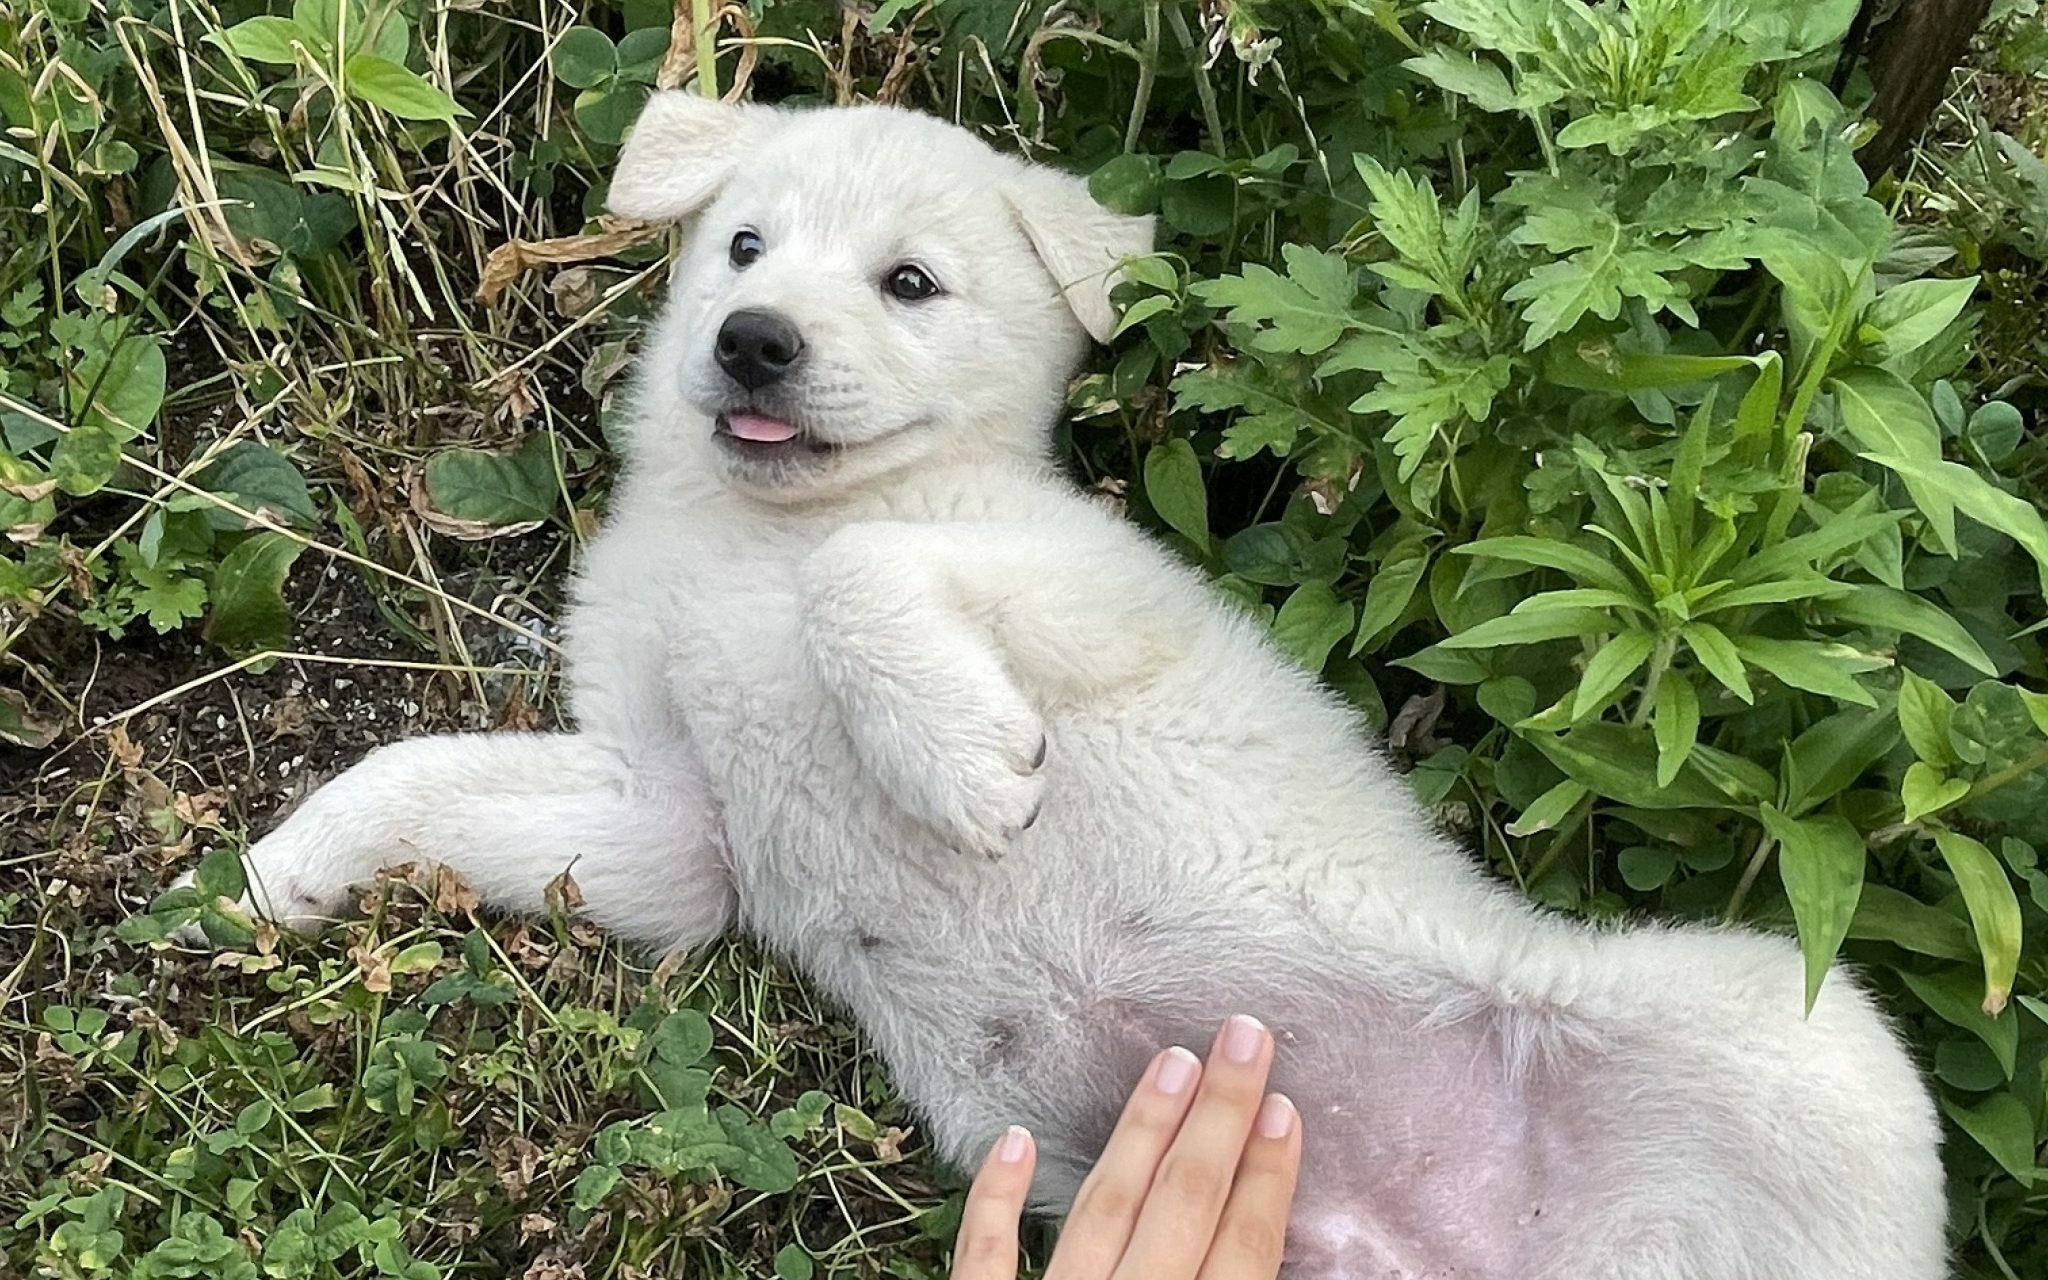dog: (243, 77, 1940, 1270)
